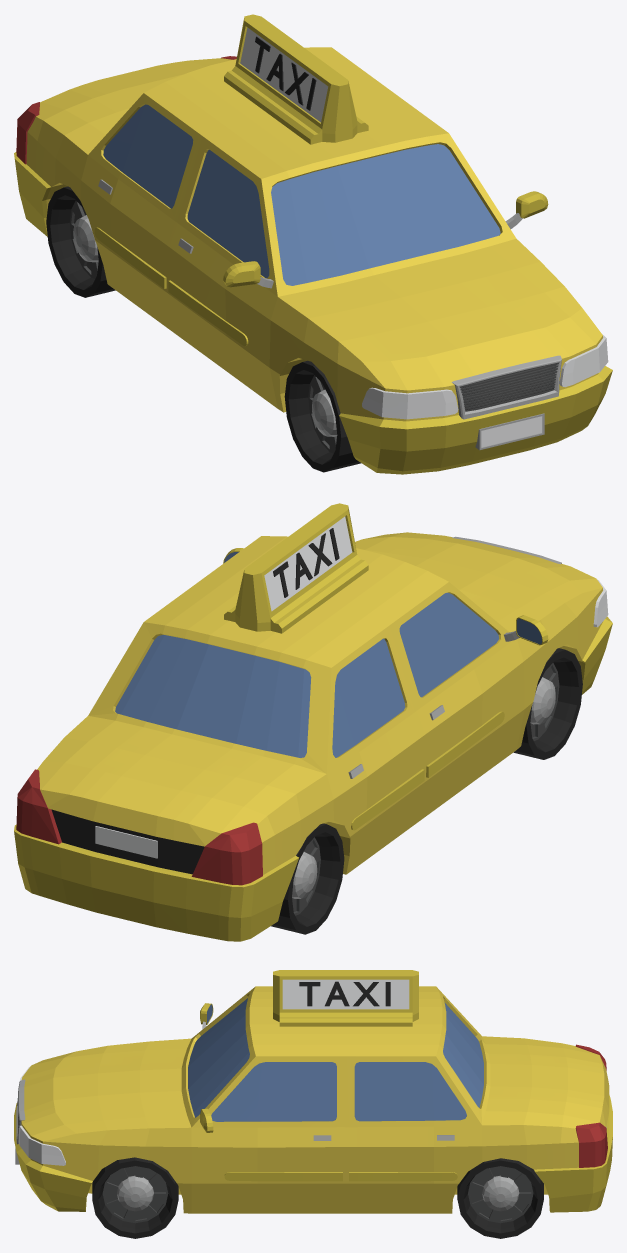
The model's file is taxi.glb.
The picture shows the model from 3 angles, top to bottom: view 1: azimuth 30°, elevation 25°; view 2: azimuth 150°, elevation 25°; view 3: azimuth 270°, elevation 25°; orthographic projection. The views are drawn at different scales.
Visible parts, largest first — view 1: taxi_Cube.006; view 2: taxi_Cube.006; view 3: taxi_Cube.006.
Part boxes in pixels (bbox=[...]): taxi_Cube.006: bbox=[14, 14, 612, 474]; taxi_Cube.006: bbox=[14, 503, 612, 941]; taxi_Cube.006: bbox=[14, 970, 612, 1238].
Size of the model in its own units: 5.26 by 4.48 by 11.02.
Materials: 1 (1 with a texture image).
